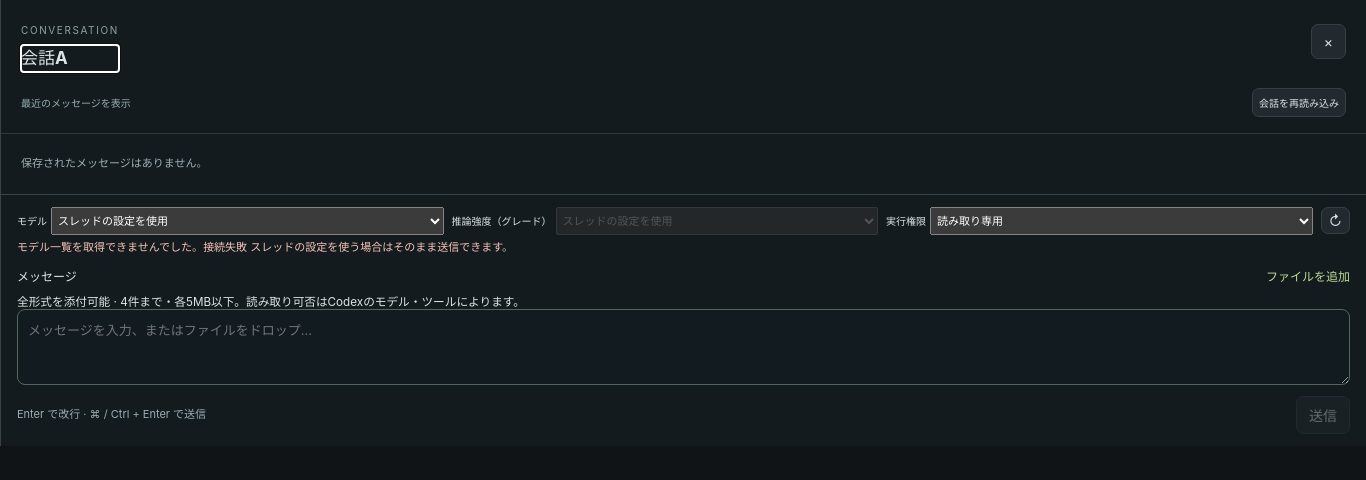
Test: allows inherited settings after catalog failure and can retry
expect the message "モデル一覧を取得できませんでした。接続失敗 スレッドの設定を使う場合はそのまま送信できます。" is shown: met, box [17,240,513,254]
Type "質問" into the text box labelled "メッセージ".
click(684, 347); type("質問")  # box [17,309,1350,385]
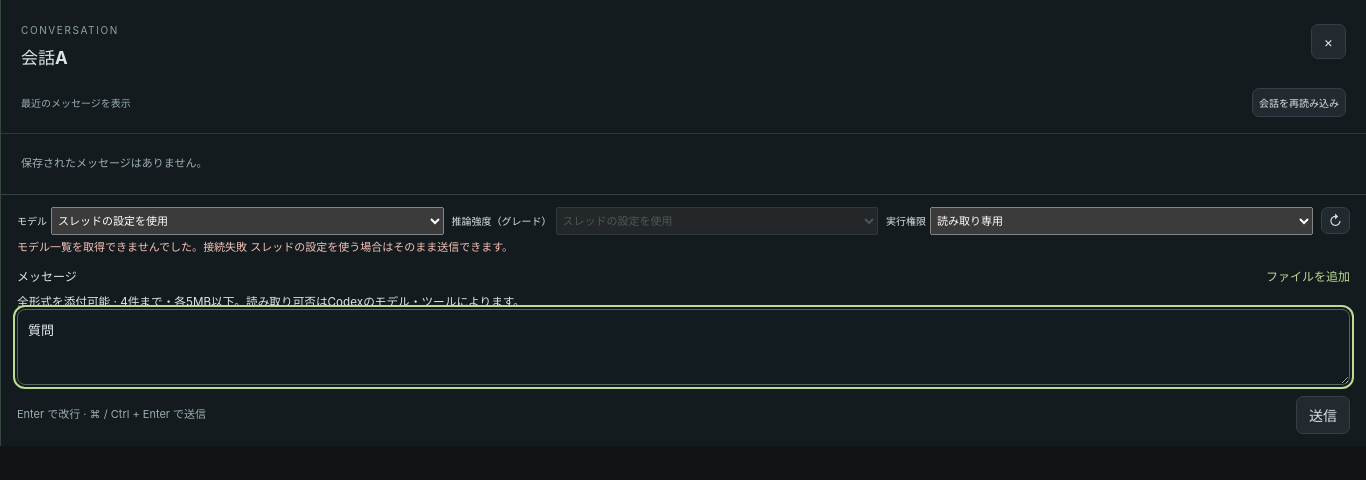
Click the button "送信".
click(1323, 415)  # box [1296,396,1350,434]
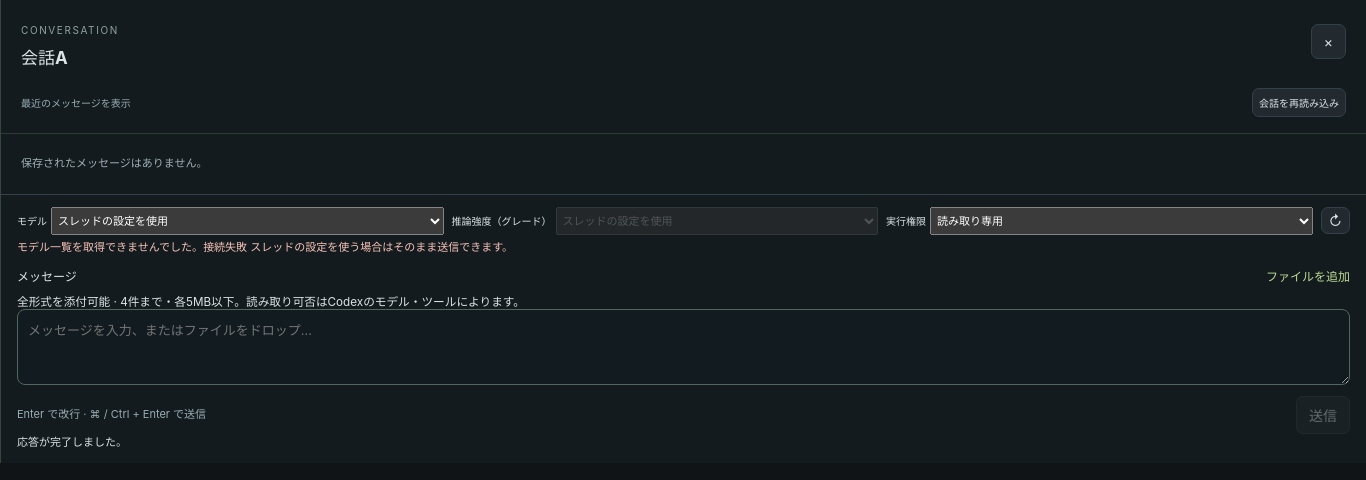
expect the text "応答が完了しました。" is shown: met, box [17,435,127,449]
Click the button named "モデル一覧を更新".
click(1335, 221)  # box [1321,208,1350,234]
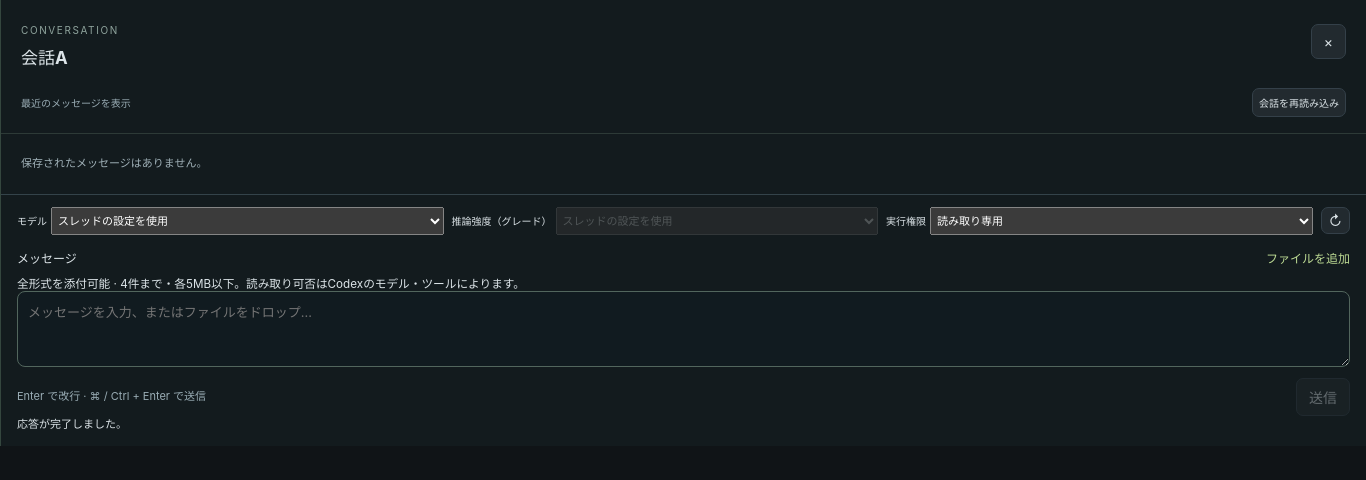
expect the message "モデル一覧を取得できませんでした。接続失敗 スレッドの設定を使う場合はそのまま送信できます。" is gone: met
